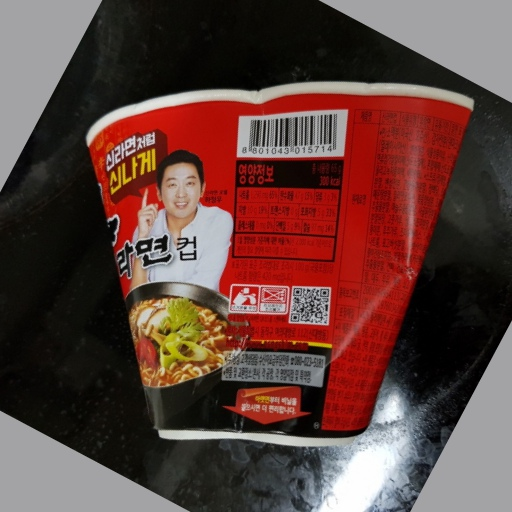Paper_1: (83, 77, 475, 445)
